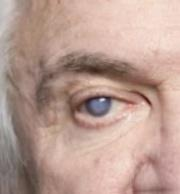eye: (87, 95, 112, 117)
